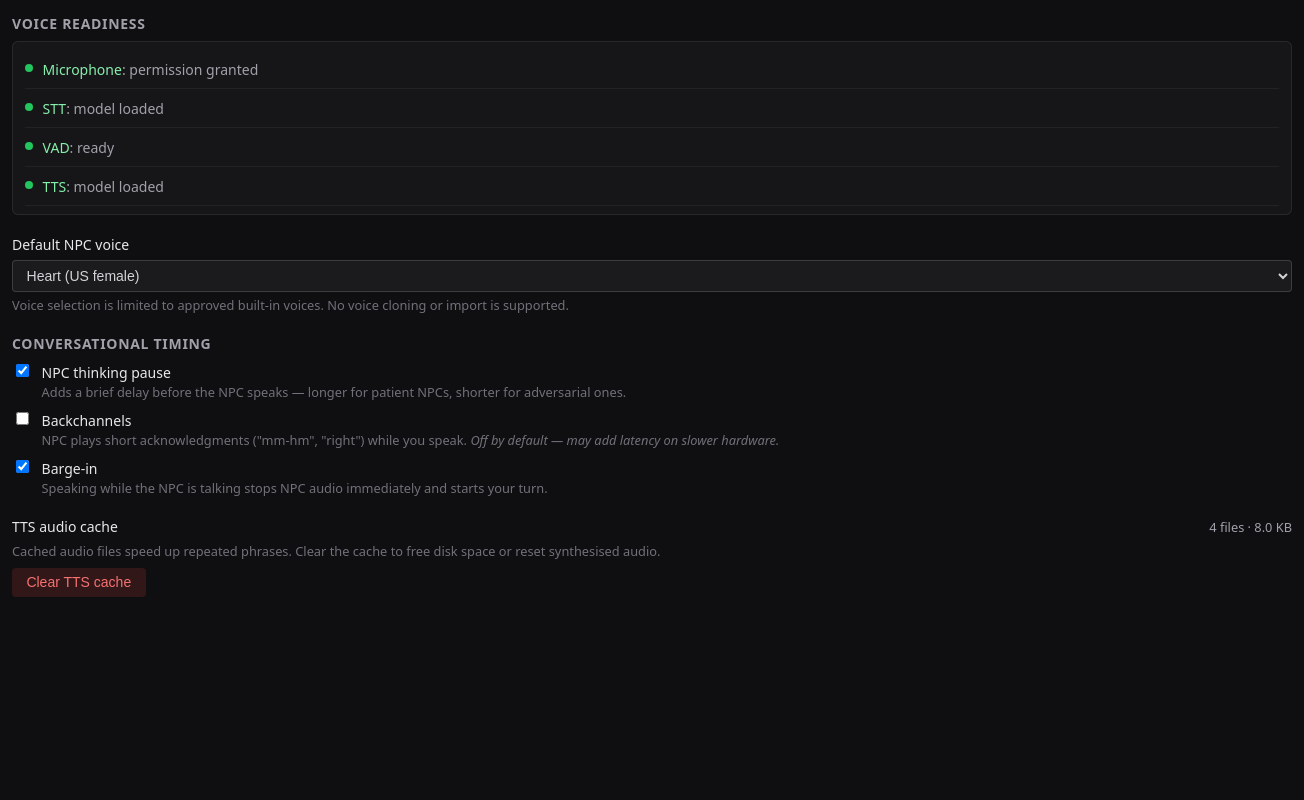
Test: TTS cache › updates cache size display to empty after clearing
The image size is (1304, 800).
Click the button "Clear TTS cache".
click(79, 582)  # box [12, 568, 146, 597]
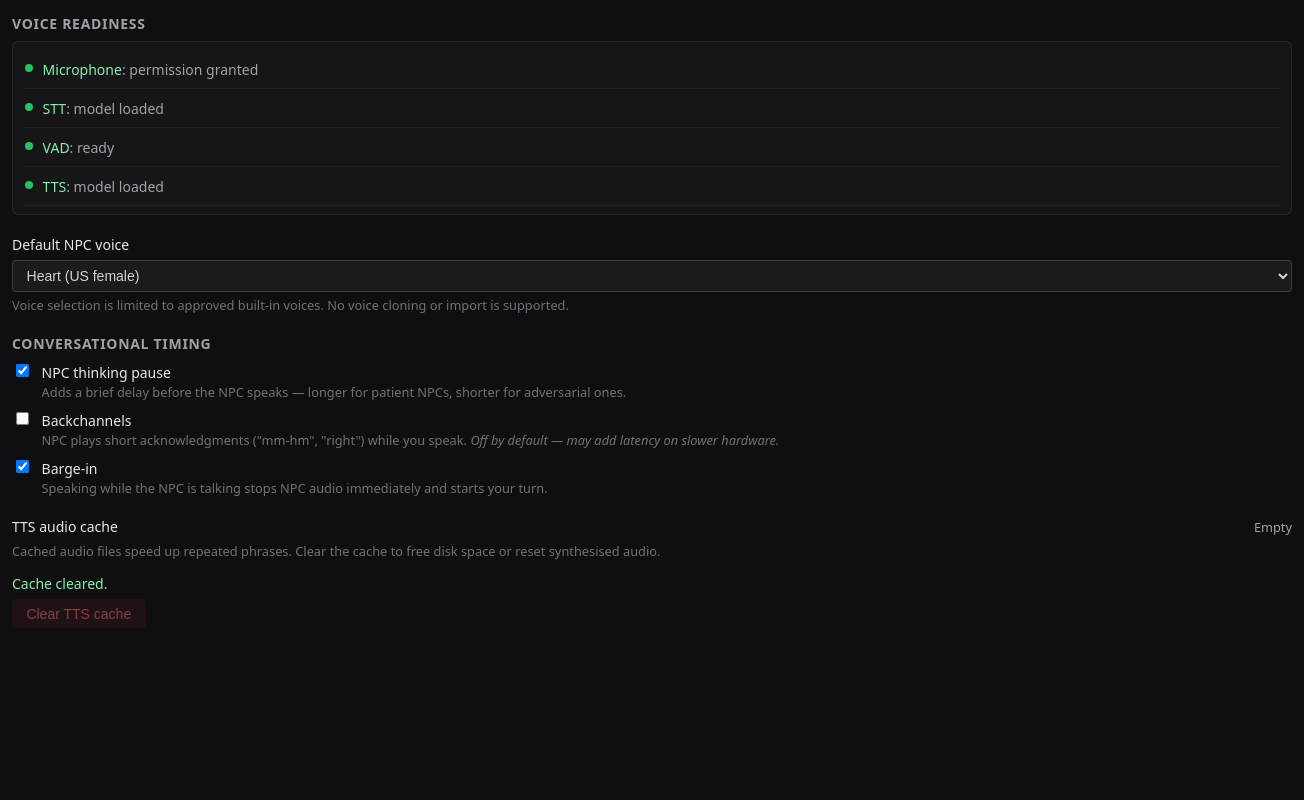
Now the text with test id "cache-size-label" reads "Empty", box [1254, 518, 1292, 536]
